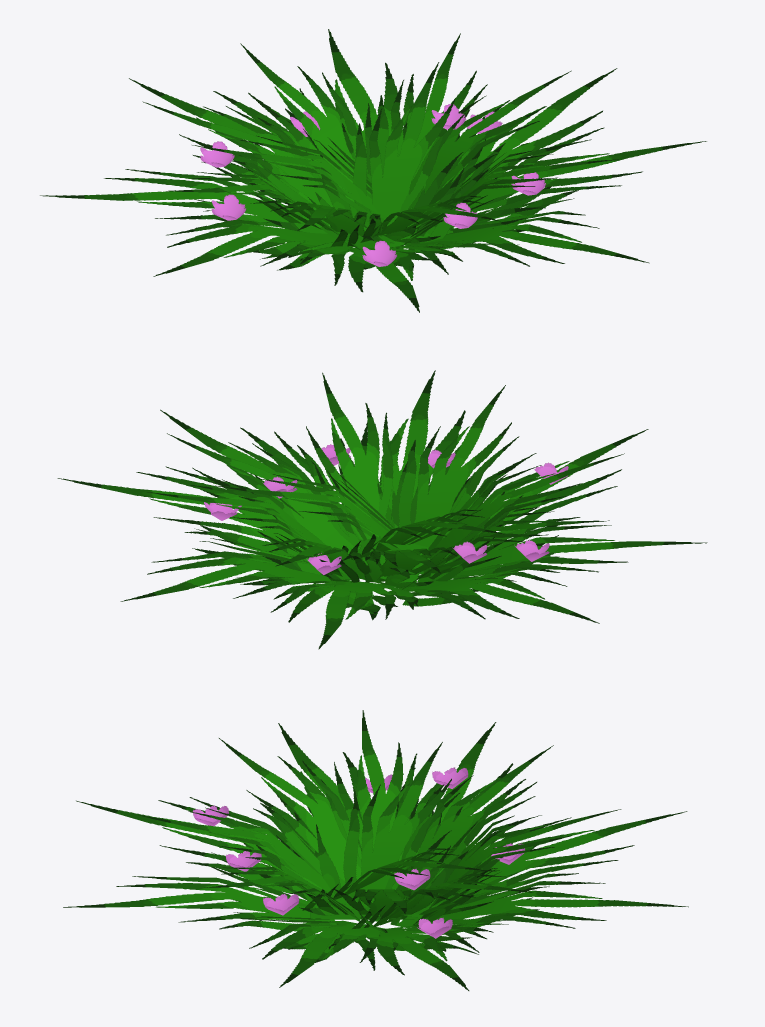
File: Pbitteroot_preview_3DS_simplified.glb
3 renders of one model, top to bottom at view 1: azimuth 30°, elevation 25°; view 2: azimuth 150°, elevation 25°; view 3: azimuth 270°, elevation 25°, orthographic. The views are drawn at different scales.
Visible parts, largest first — view 1: Marine Park Empire model; view 2: Marine Park Empire model; view 3: Marine Park Empire model.
Boxes of the visible parts, <box> form: Marine Park Empire model: <box>40,29,706,312</box>; Marine Park Empire model: <box>57,370,707,649</box>; Marine Park Empire model: <box>63,710,688,990</box>.
Bounding box in the file's own units: 172 × 24.19 × 169.
1 material, 1 textured.
